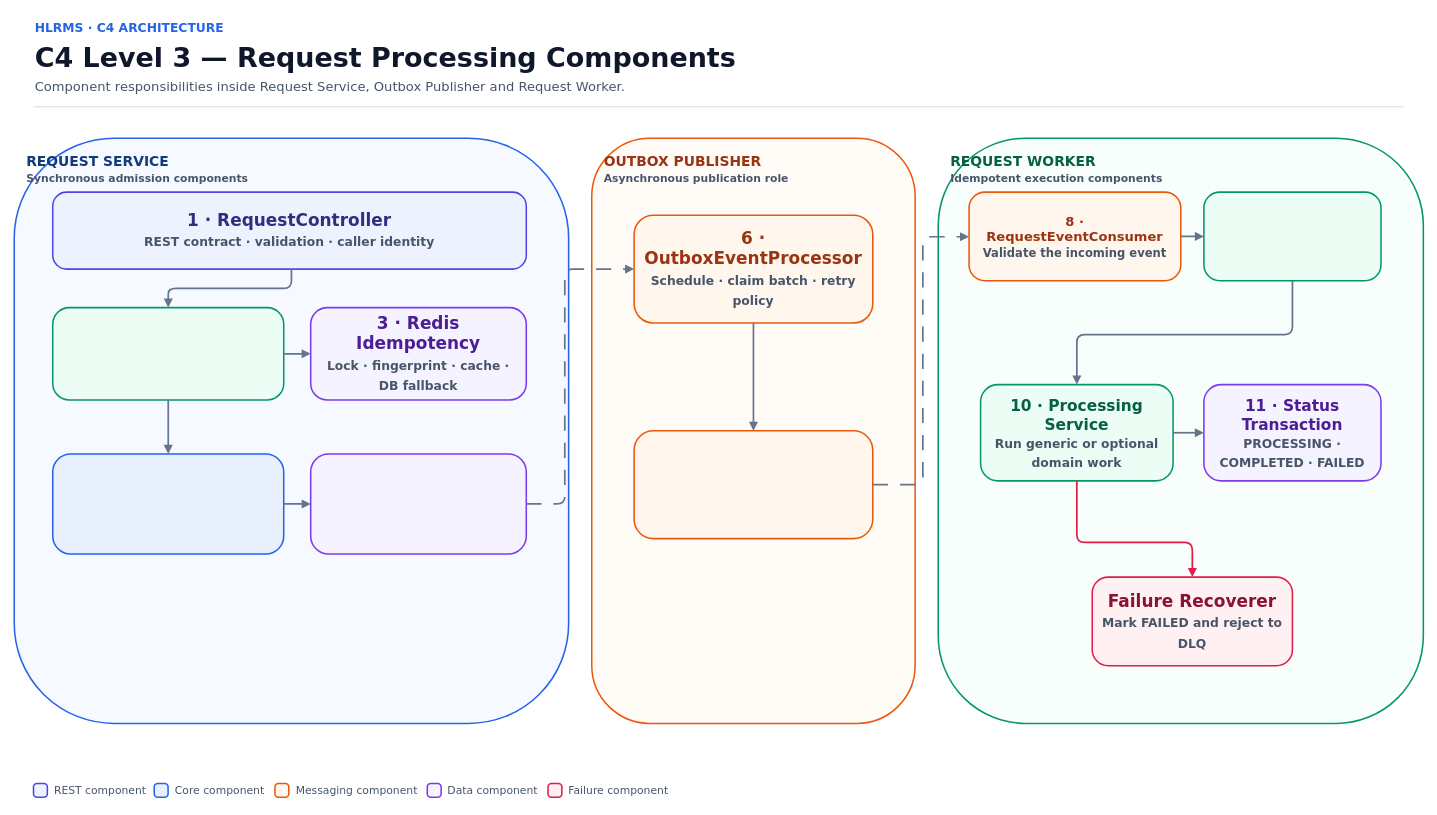
Some shapes in this 1437 by 815 pixel diagram are drawn without their labels. The centre of each missing label's shape, as x and y in pixels:
"2 · RequestServiceImpl Ownership · orchestration · replay decisions" goes at (x=168, y=353).
"4 · Creation Transaction Atomic request + Outbox commit" goes at (x=168, y=503).
"5 · Repositories + Cache Request · Outbox · read-through cache" goes at (x=418, y=503).
"7 · RequestEventPublisher RabbitTemplate · confirms · returns" goes at (x=753, y=484).
"9 · Idempotent Consumer Register event_id once" goes at (x=1292, y=236).
